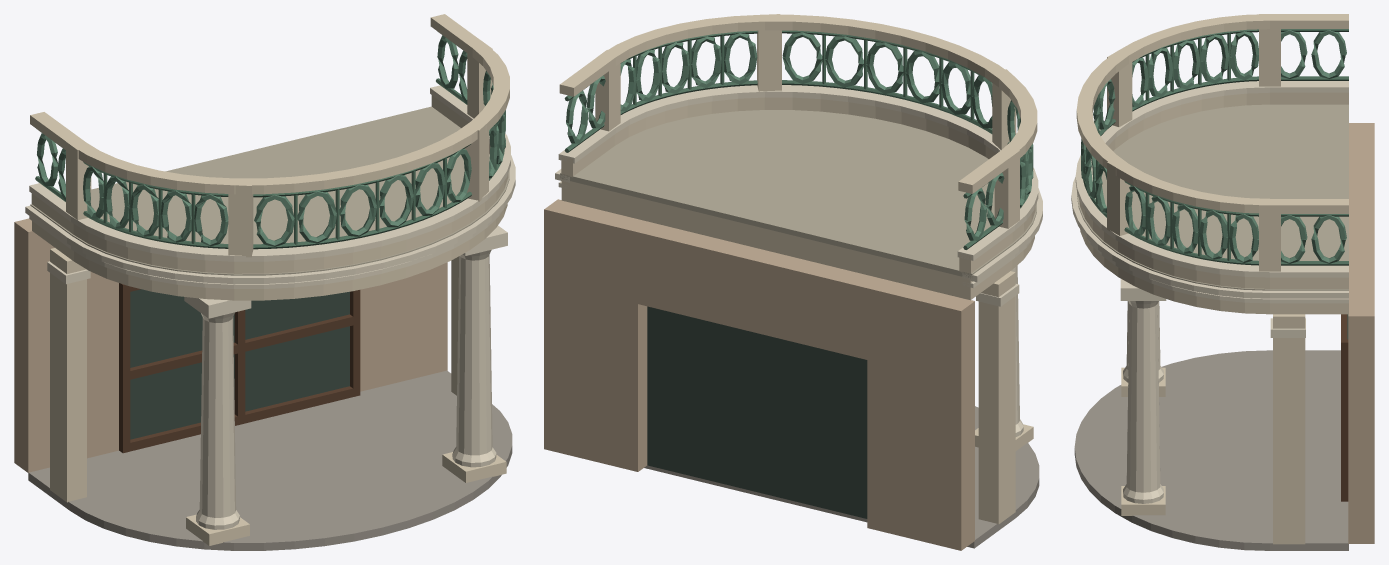
The model's file is xuhui-wukang-2-garden-villa-curved-balcony-lod.glb.
3 views of the same model, side by side, from view 1: azimuth 30°, elevation 25°; view 2: azimuth 150°, elevation 25°; view 3: azimuth 270°, elevation 25° (orthographic). The views are drawn at different scales.
Visible parts, largest first — view 1: 武康路2号花园住宅南向弧形阳台与双柱; view 2: 武康路2号花园住宅南向弧形阳台与双柱; view 3: 武康路2号花园住宅南向弧形阳台与双柱.
Part boxes in pixels (box(x1,y1,x2,y2)): 武康路2号花园住宅南向弧形阳台与双柱: box(14, 14, 515, 550); 武康路2号花园住宅南向弧形阳台与双柱: box(544, 14, 1042, 550); 武康路2号花园住宅南向弧形阳台与双柱: box(1071, 14, 1374, 550).
Size of the model in its own units: 6.18 by 5.05 by 4.03.
